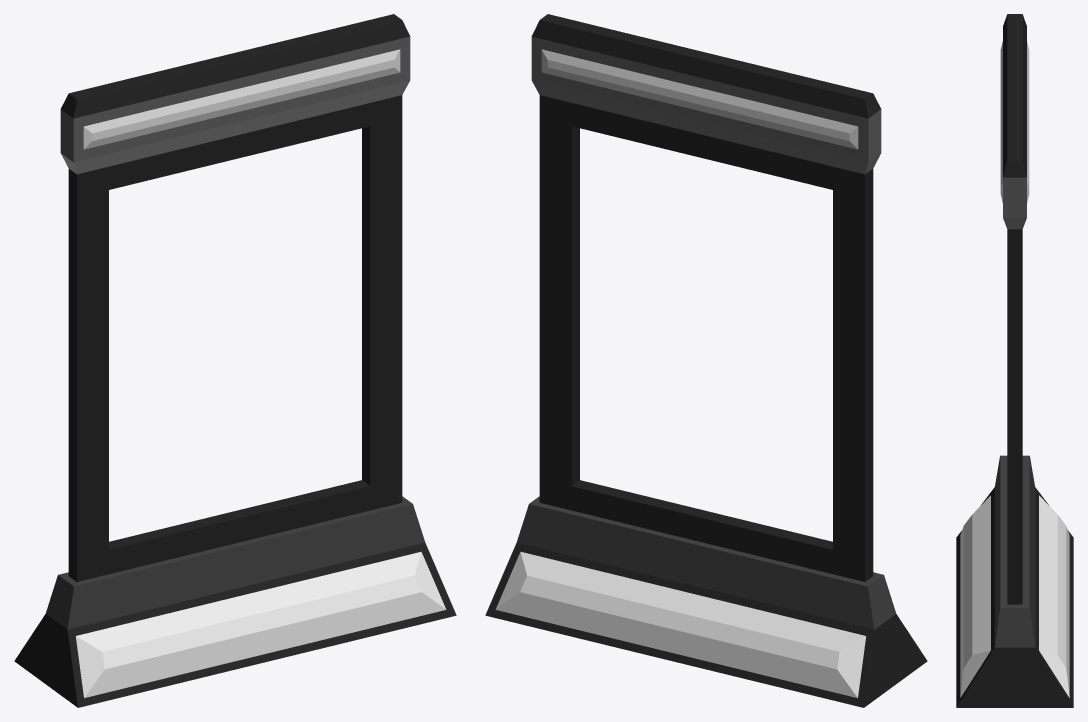
Rendered from AdDivider.fbx.
3 views of the same model, side by side, from view 1: azimuth 30°, elevation 25°; view 2: azimuth 150°, elevation 25°; view 3: azimuth 270°, elevation 25° (orthographic). The views are drawn at different scales.
Parts seen in each view (by area): view 1: AdDivider; view 2: AdDivider; view 3: AdDivider.
Part boxes in pixels (bbox=[...]): AdDivider: bbox=[14, 14, 456, 707]; AdDivider: bbox=[485, 14, 927, 707]; AdDivider: bbox=[956, 14, 1073, 707].
Size of the model in its own units: 21.31 by 31.28 by 6.22.
